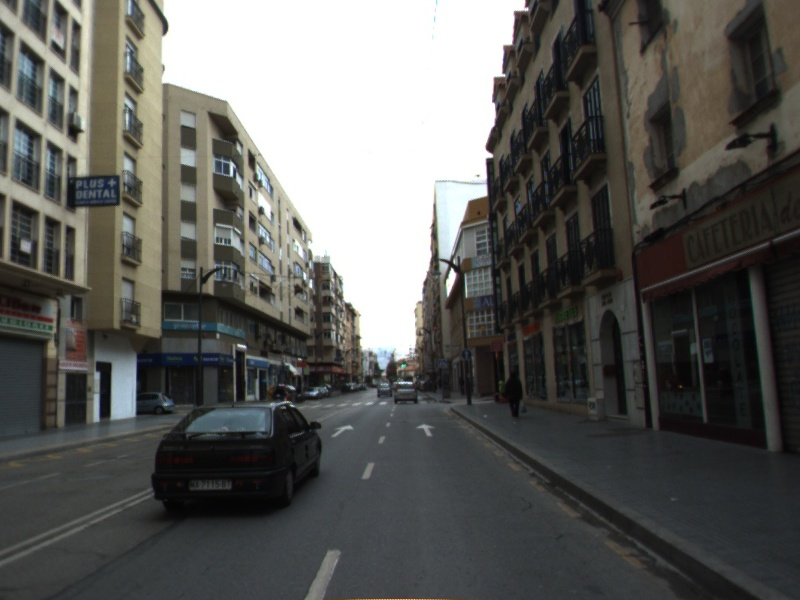STRAIGHT: (328, 423, 356, 439), (414, 422, 437, 438)
